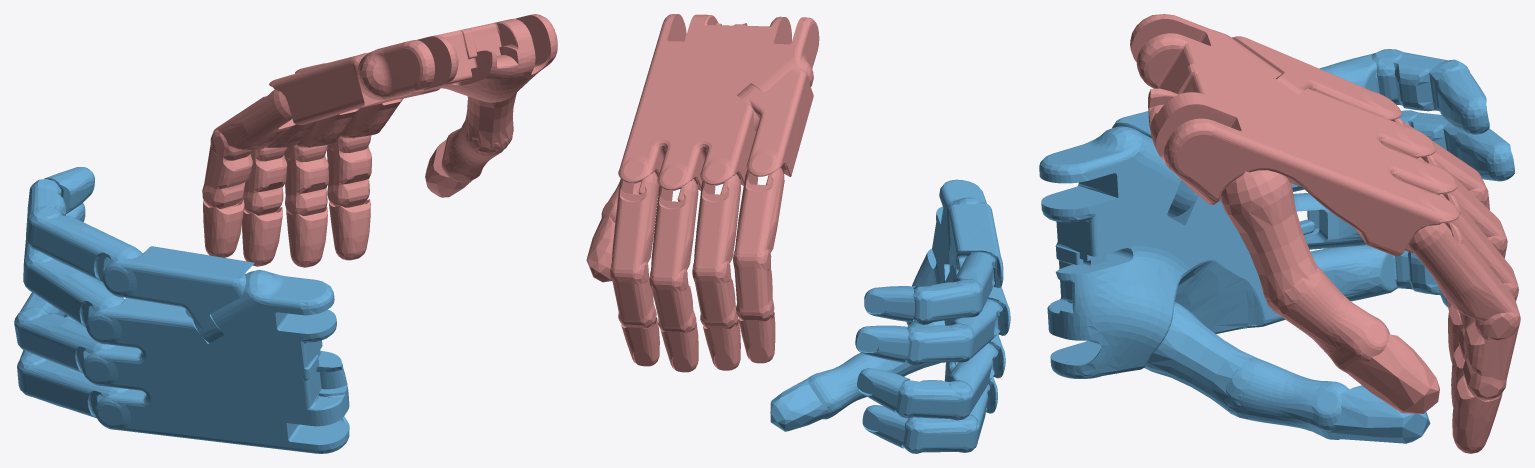
Rendered from VideoGameController_pc.glb.
The picture shows the model from 3 angles, left to right: view 1: azimuth 30°, elevation 25°; view 2: azimuth 150°, elevation 25°; view 3: azimuth 270°, elevation 25°; orthographic projection. The views are drawn at different scales.
Parts seen in each view (by area): view 1: geom_1, geom_2; view 2: geom_2, geom_1; view 3: geom_2, geom_1.
Boxes of the visible parts, x1,y1,x2,y2 form: geom_1: (14, 167, 349, 453); geom_2: (202, 14, 557, 267); geom_2: (586, 14, 819, 372); geom_1: (770, 179, 1010, 453); geom_2: (1130, 14, 1520, 453); geom_1: (1039, 49, 1514, 443).
Bounding box in the file's own units: 0.2262 × 0.1857 × 0.1695.
